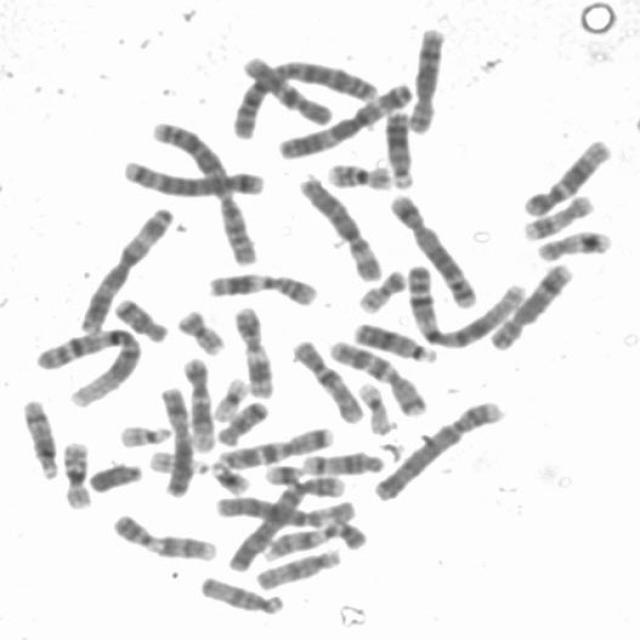A1: (397, 257, 528, 351), (30, 320, 147, 408)
A2: (146, 115, 261, 266), (225, 53, 380, 141)
A3: (73, 198, 177, 336), (272, 77, 415, 160)
B4: (368, 394, 508, 504), (221, 469, 351, 574)
B5: (386, 187, 482, 310), (115, 153, 266, 199)
C10: (236, 51, 335, 128), (286, 333, 364, 425)
C11: (227, 300, 277, 400), (202, 266, 320, 308)
C12: (518, 132, 614, 219), (177, 351, 219, 453)
C6: (292, 170, 383, 283), (210, 489, 361, 528)
C7: (326, 332, 431, 418), (212, 421, 338, 470)
C8: (484, 255, 577, 352), (404, 21, 449, 134)
C9: (104, 507, 218, 563), (256, 517, 371, 563)
D13: (348, 315, 439, 364), (380, 104, 418, 190)
D14: (16, 394, 61, 480), (296, 446, 386, 476)
D15: (193, 568, 288, 617), (251, 542, 345, 591)
E16: (57, 435, 96, 510), (322, 156, 395, 192)
E17: (516, 188, 595, 242), (532, 225, 614, 263)
E18: (108, 292, 171, 344), (211, 396, 272, 448)
F19: (354, 376, 397, 435), (208, 372, 250, 423)
F20: (171, 302, 230, 357), (354, 262, 411, 315)
G21: (206, 456, 252, 496), (258, 456, 308, 487)
G22: (143, 446, 209, 477), (114, 418, 176, 448)
X: (154, 381, 196, 498)
Y: (85, 457, 145, 495)
